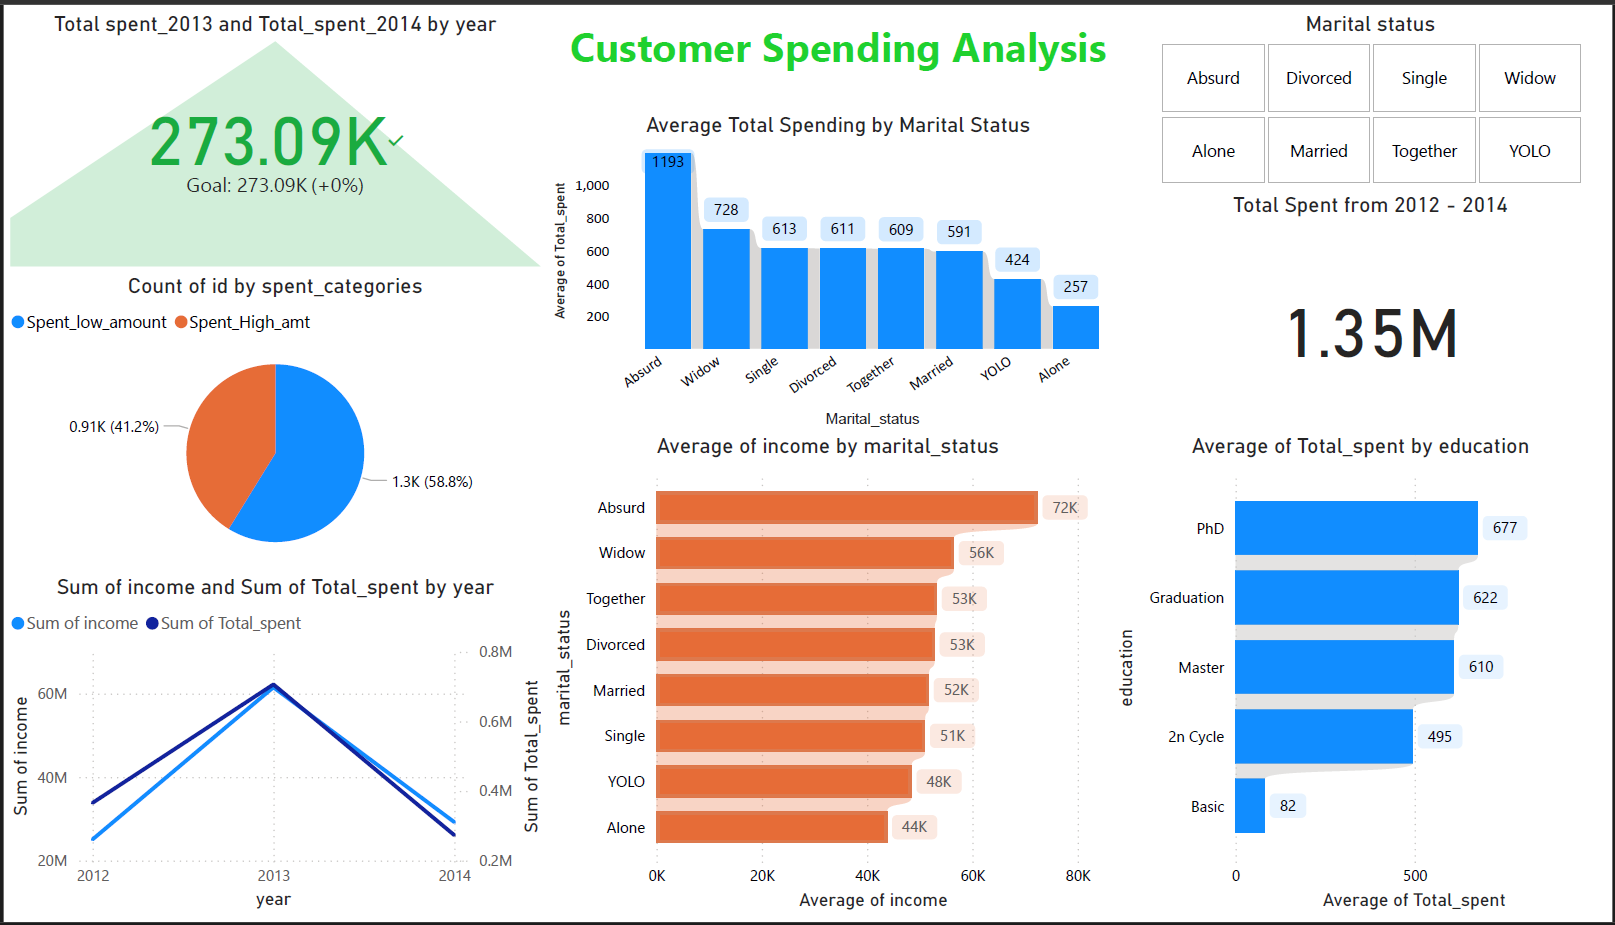

What the dashboard file says about the page in this screenshot:
{"tool":"powerbi","page":{"name":"Page 1","canvas":[1280,720],"ordinal":0},"visuals":[{"type":"columnChart","title":"Average Total Spending by Marital Status","fields":{"Category":["public data.marital_status"],"Y":["Avg(public data.Total_spent)"]},"box":[432,80,464,256],"z":0},{"type":"actionButton","box":[0,0,100,40],"z":1000},{"type":"pieChart","fields":{"Category":["public data.spent_categories"],"Y":["CountNonNull(public data.id)"]},"box":[0,208,432,240],"z":2000},{"type":"barChart","fields":{"Category":["public data.marital_status"],"Y":["Avg(public data.income)"]},"box":[432,336,448,384],"z":3000},{"type":"barChart","fields":{"Category":["public data.education"],"Y":["Avg(public data.Total_spent)"]},"box":[880,336,400,384],"z":4000},{"type":"kpi","title":"Total spent_2013 and Total_spent_2014 by year","fields":{"Goal":["public data.total_spent_2014"],"Indicator":["public data.total spent_2013"],"TrendLine":["public data.year"]},"box":[0,0,432,208],"z":5000},{"type":"slicer","title":"Marital status","fields":{"Values":["public data.marital_status"]},"box":[896,0,384,144],"z":6000},{"type":"textbox","box":[432,0,464,80],"z":7000},{"type":"lineChart","fields":{"Y":["Sum(public data.income)"],"Category":["public data.year"],"Y2":["Sum(public data.Total_spent)"]},"box":[0,448,432,272],"z":8000},{"type":"card","title":"Total Spent from 2012 - 2014","fields":{"Values":["Sum(public data.Total_spent)"]},"box":[896,144,384,192],"z":9000}]}

Visuals, with their boxes in screenshot pixels (x1, y1, x2, y2), scaled from the page's 1280x720 canvas onto the 1615x925 screenshot:
"Average Total Spending by Marital Status" columnChart: select_region(545, 103, 1130, 432)
actionButton: select_region(0, 0, 126, 51)
pieChart - public data.spent_categories x CountNonNull(public data.id): select_region(0, 267, 545, 576)
barChart - public data.marital_status x Avg(public data.income): select_region(545, 432, 1110, 924)
barChart - public data.education x Avg(public data.Total_spent): select_region(1110, 432, 1614, 924)
"Total spent_2013 and Total_spent_2014 by year" kpi: select_region(0, 0, 545, 267)
"Marital status" slicer: select_region(1130, 0, 1614, 185)
textbox: select_region(545, 0, 1130, 103)
lineChart - Sum(public data.income) x public data.year: select_region(0, 576, 545, 924)
"Total Spent from 2012 - 2014" card: select_region(1130, 185, 1614, 432)
